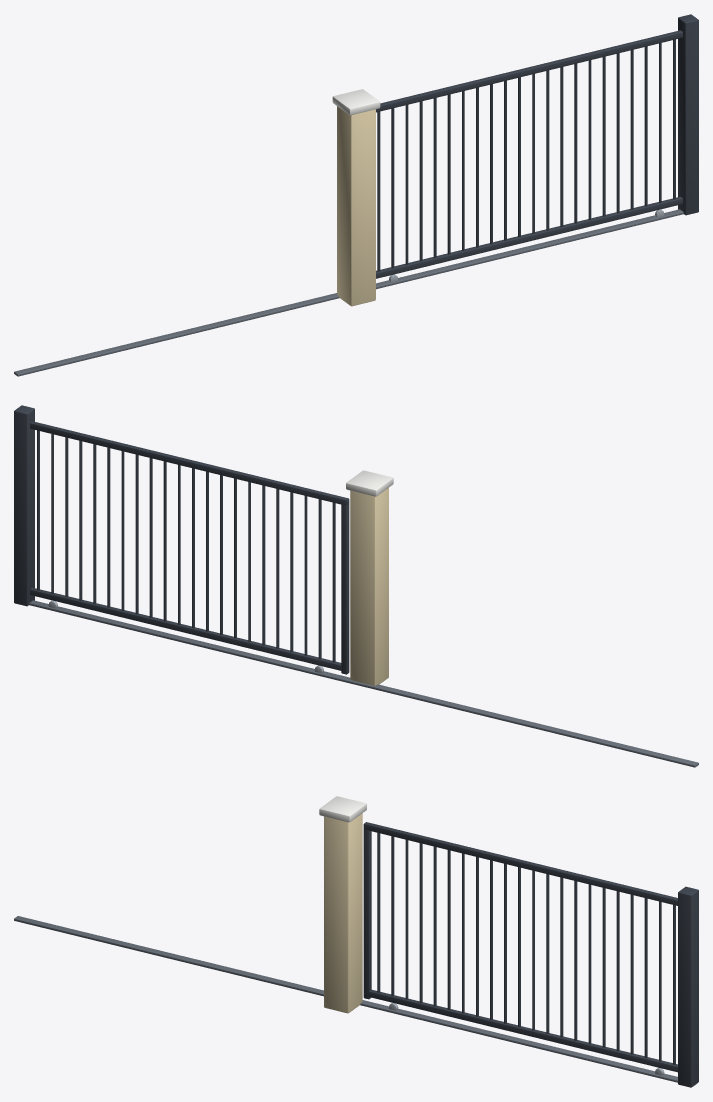
The model's file is portao_garagem_correr.glb.
The picture shows the model from 3 angles, top to bottom: view 1: azimuth 30°, elevation 25°; view 2: azimuth 150°, elevation 25°; view 3: azimuth 330°, elevation 25°; orthographic projection.
Parts seen in each view (by area): view 1: correr_1, portao_garagem_correr; view 2: correr_1, portao_garagem_correr; view 3: correr_1, portao_garagem_correr.
Boxes of the visible parts, x1,y1,x2,y2 form: correr_1: (376, 30, 682, 282); portao_garagem_correr: (14, 14, 698, 376); correr_1: (30, 421, 349, 674); portao_garagem_correr: (14, 405, 698, 767); correr_1: (363, 822, 677, 1075); portao_garagem_correr: (14, 796, 698, 1087).
Size of the model in its own units: 5.9 by 1.66 by 0.295.
1 material, 1 textured.
